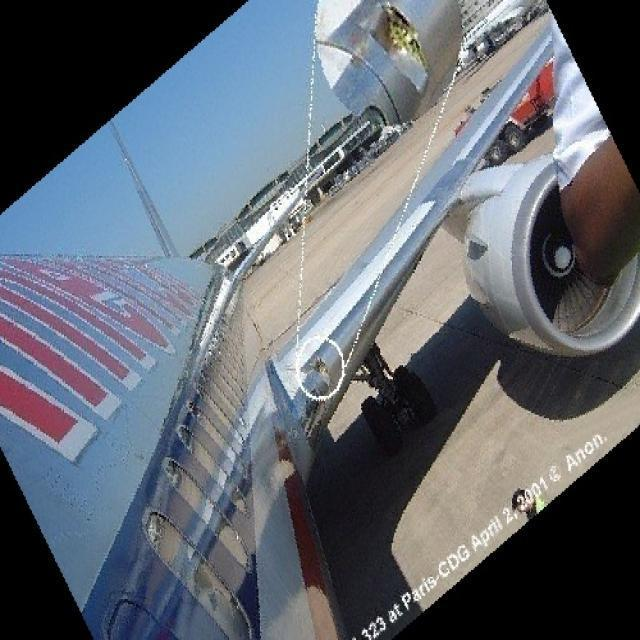dent: (365, 14, 433, 91), (310, 345, 327, 379)
